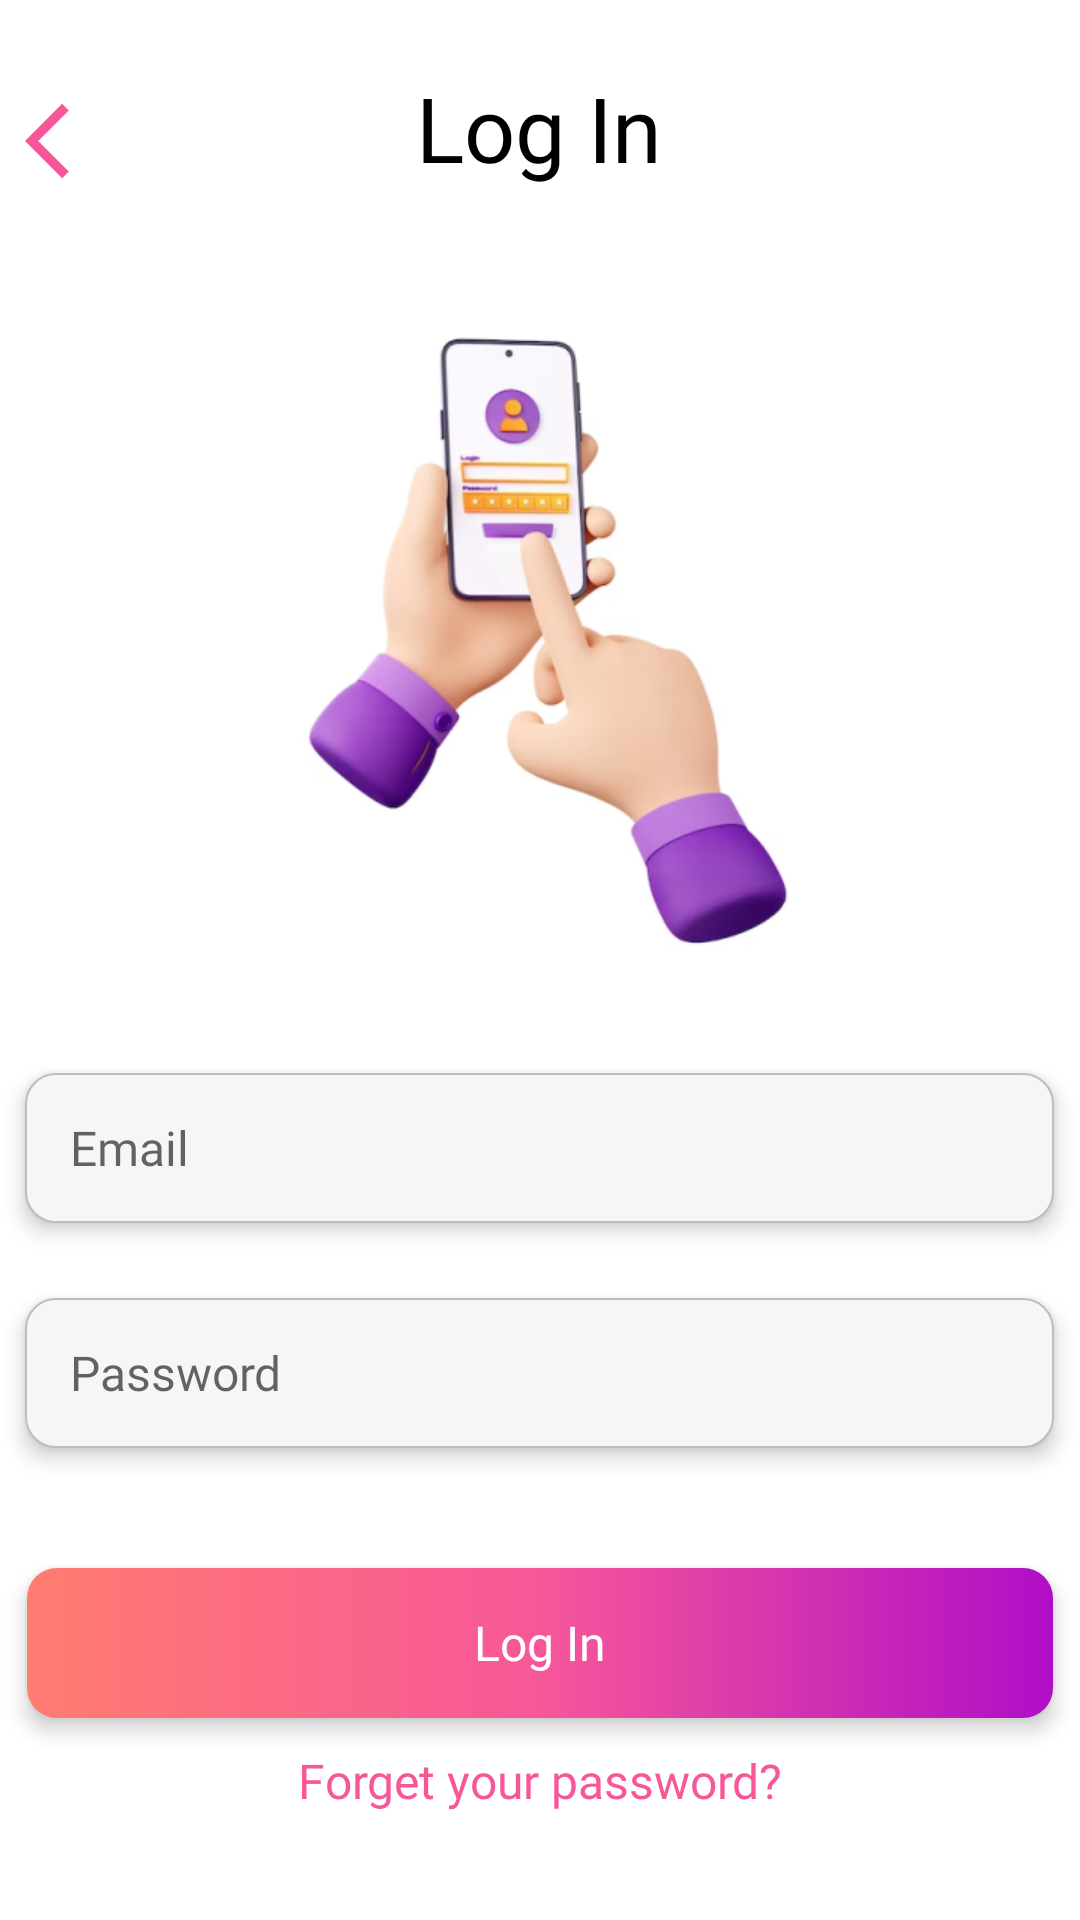

Icon click points for this 1080 x 1920 phone screenshot, format point (x, y):
arrow back: point (47, 141)
